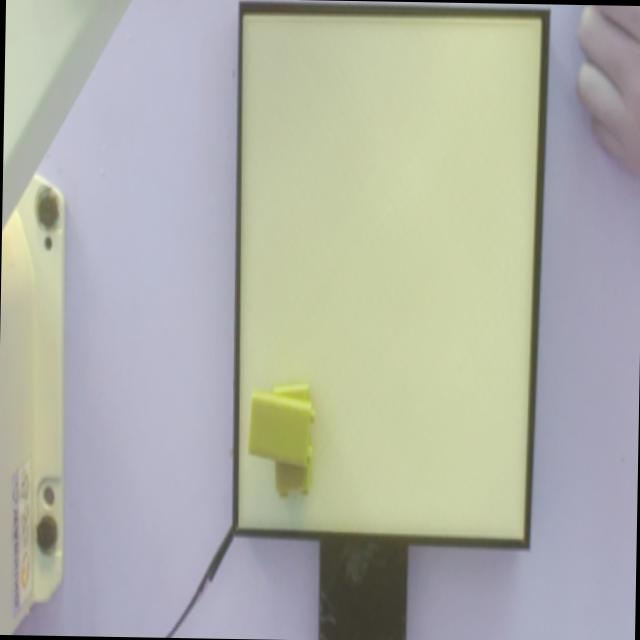bateria: (248, 389, 315, 469)
mesa: (232, 0, 551, 550)
